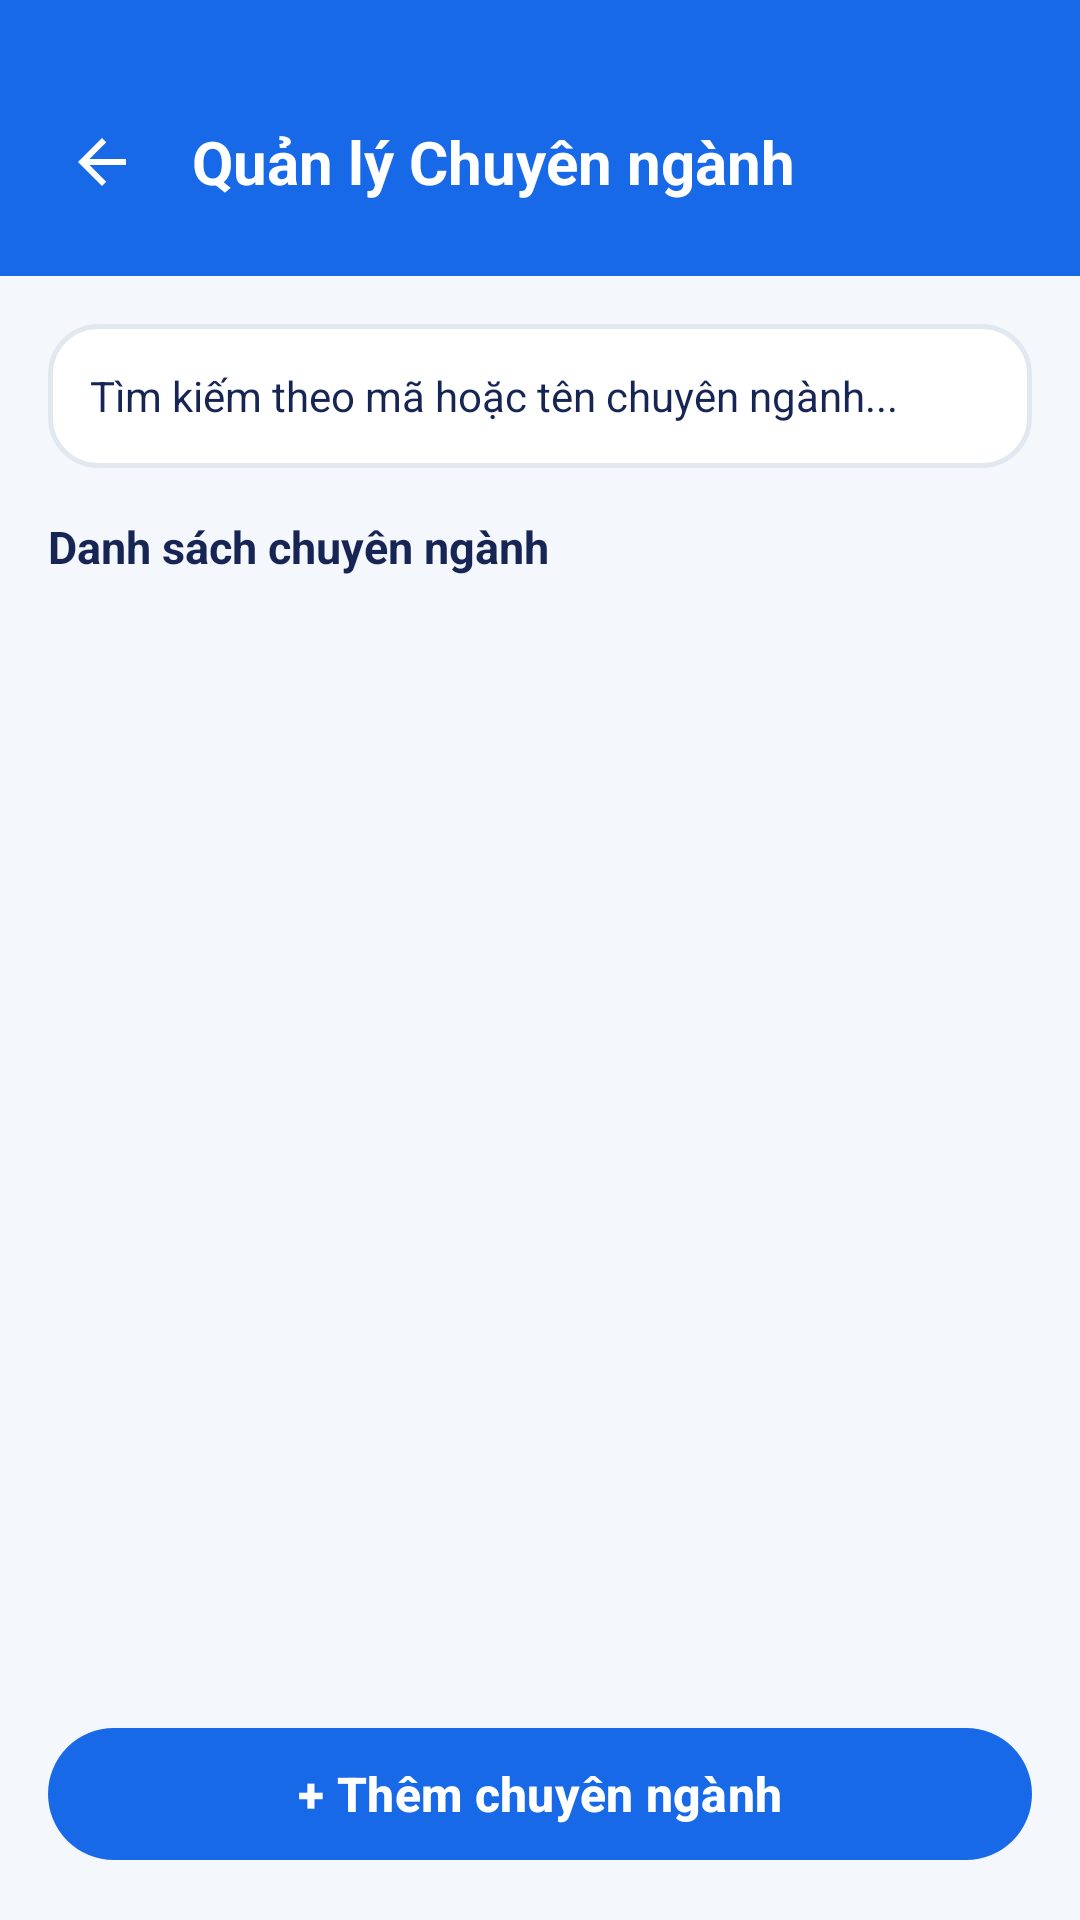

Icon bounding boxes for this 1080x1920 phone screenshot, format (x1,y1,x2,y2):
Quay lại: (78,138,126,186)
